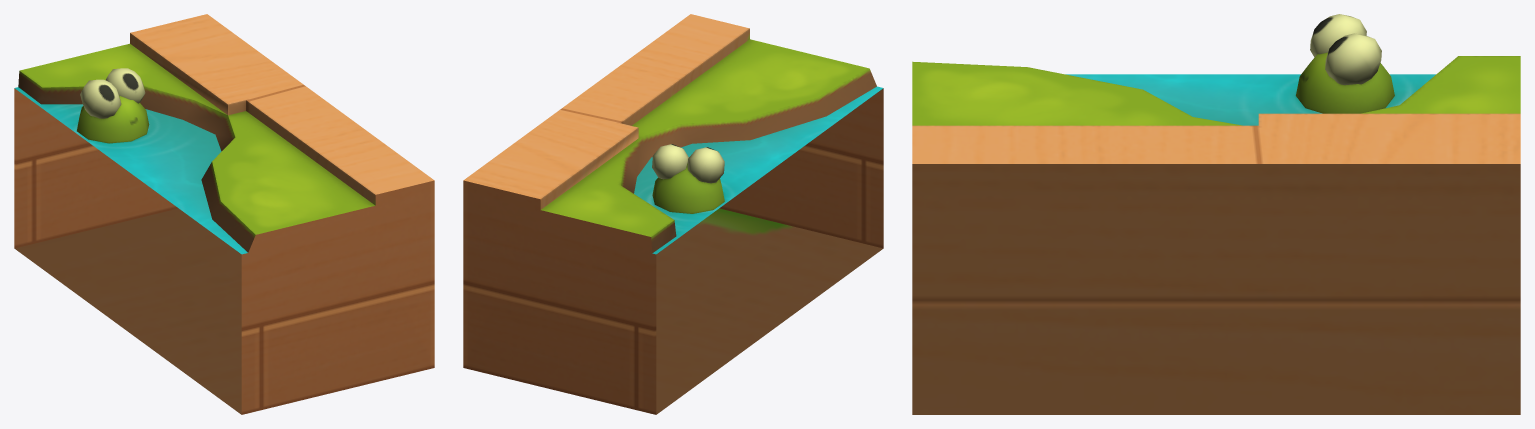
The model's file is shuichi03.FBX.
3 renders of one model, left to right at view 1: azimuth 30°, elevation 25°; view 2: azimuth 150°, elevation 25°; view 3: azimuth 270°, elevation 25°, orthographic. The views are drawn at different scales.
Parts seen in each view (by area): view 1: objjiansulumian_02_03; view 2: objjiansulumian_02_03; view 3: objjiansulumian_02_03.
Part boxes in pixels (x1,y1,x2,y2): objjiansulumian_02_03: (14, 14, 434, 414); objjiansulumian_02_03: (463, 14, 883, 414); objjiansulumian_02_03: (912, 14, 1520, 414).
Size of the model in its own units: 3.43 by 3.61 by 7.
